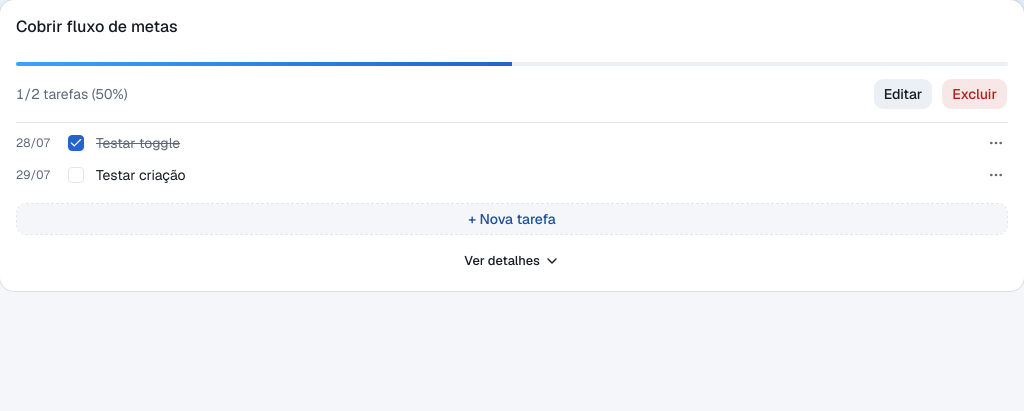
it: WeeklyGoalCard › renders one day toggle per day of the week, labeled with the real day-of-month number
Click the button "+ Nova tarefa".
click(512, 219)  # box x1=16 y1=203 x2=1008 y2=235
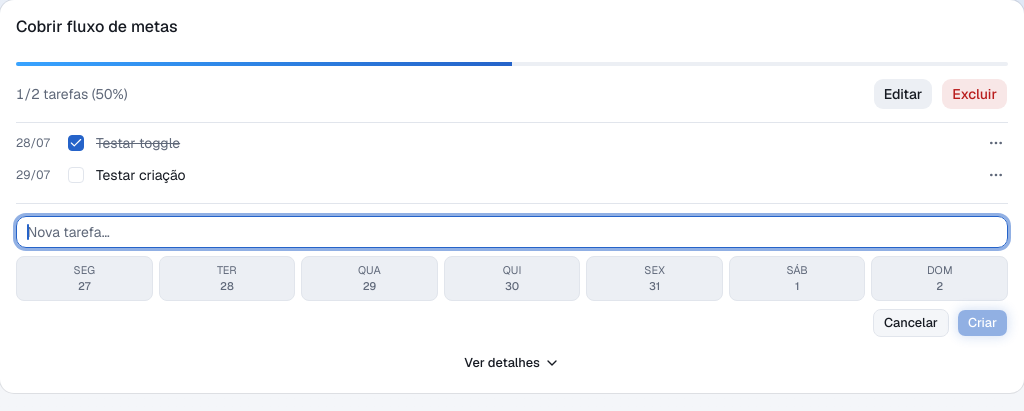
Check: the number of checkboxes labelled "SEG 27" is 7
Check: the checkbox labelled "SEG 27" is shown, box x1=16 y1=256 x2=153 y2=301
Check: the checkbox labelled "DOM 2" is shown, box x1=872 y1=256 x2=1008 y2=301
